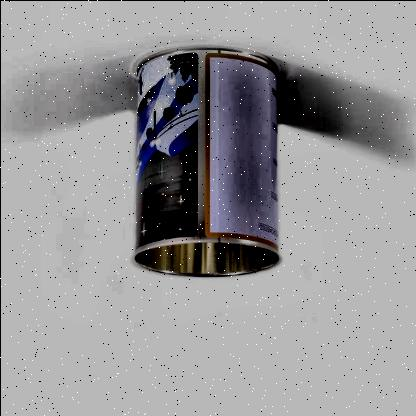Can: (128, 46, 282, 276)
